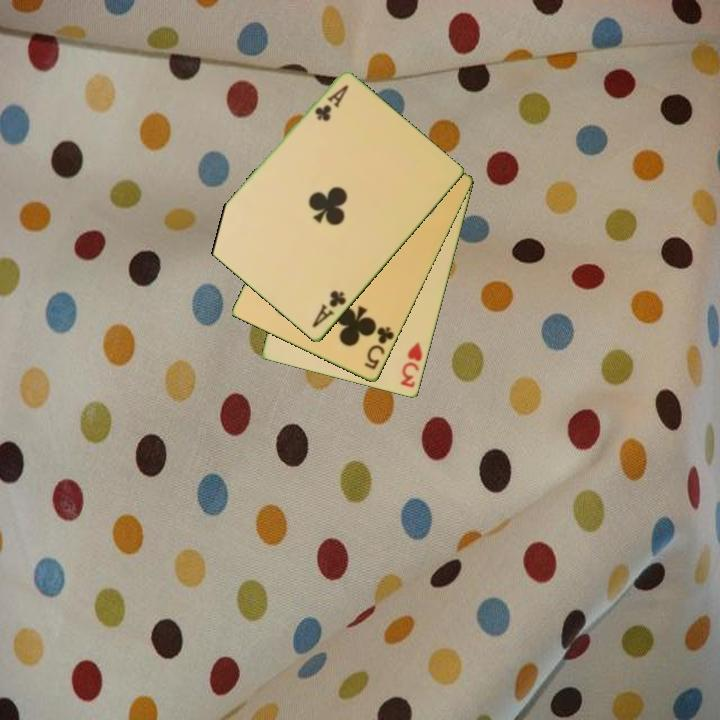3h: (397, 338, 425, 391)
5c: (361, 323, 397, 373)
Ac: (308, 287, 349, 331), (311, 82, 352, 125)
